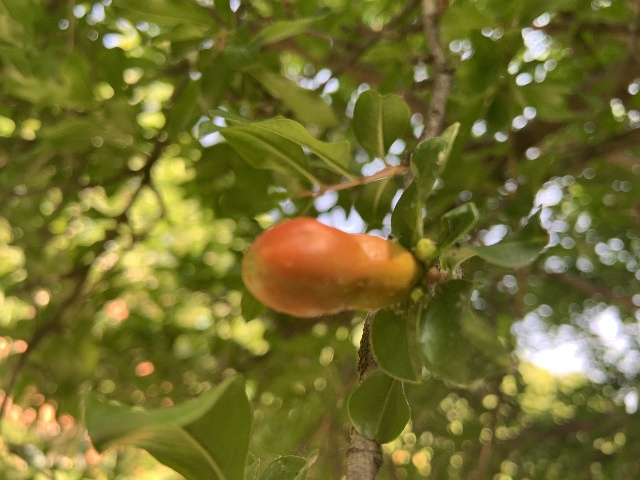bud: (241, 216, 418, 316)
